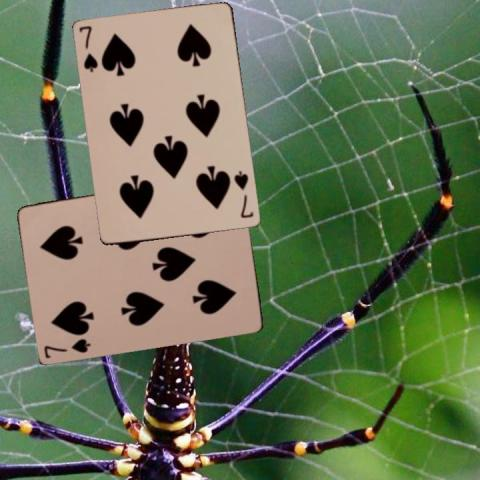7s: (231, 167, 255, 220), (41, 336, 92, 360), (76, 23, 100, 74)
